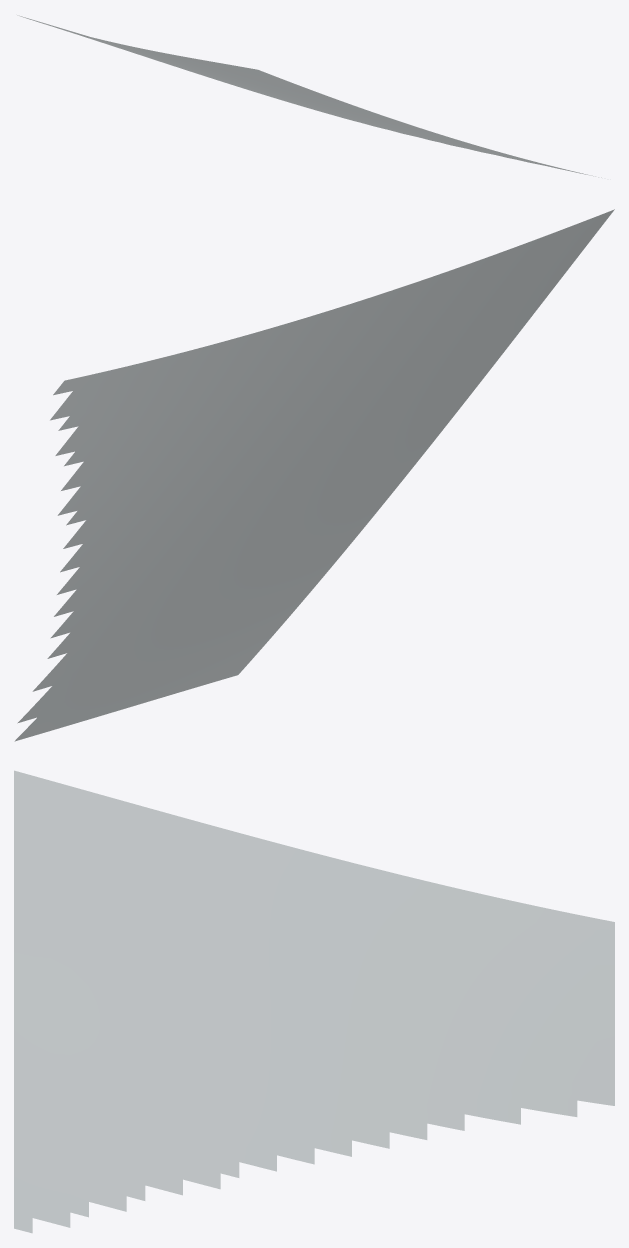
The model's file is alpine-10-5.glb.
The picture shows the model from 3 angles, top to bottom: view 1: azimuth 30°, elevation 25°; view 2: azimuth 150°, elevation 25°; view 3: azimuth 270°, elevation 25°; orthographic projection. The views are drawn at different scales.
Visible parts, largest first — view 1: alpine-10-5; view 2: alpine-10-5; view 3: alpine-10-5.
Boxes of the visible parts, x1,y1,x2,y2 form: alpine-10-5: (17, 15, 601, 177); alpine-10-5: (14, 209, 614, 741); alpine-10-5: (14, 770, 614, 1233).
Size of the model in its own units: 216 by 119 by 256.
Materials: 1 (1 with a texture image).
